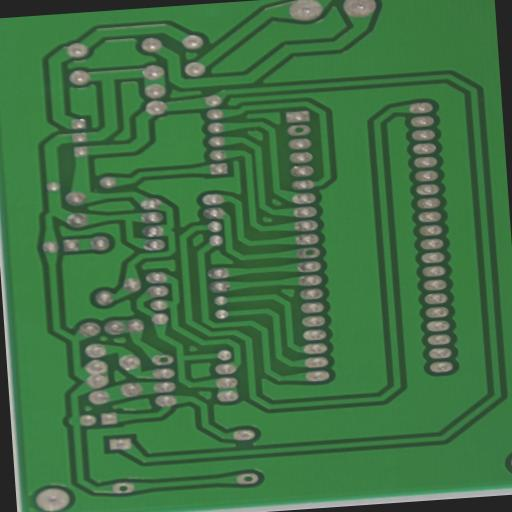missing_hole: (113, 480, 136, 494), (301, 246, 322, 257), (290, 124, 311, 135), (238, 473, 257, 484), (156, 355, 171, 364)
